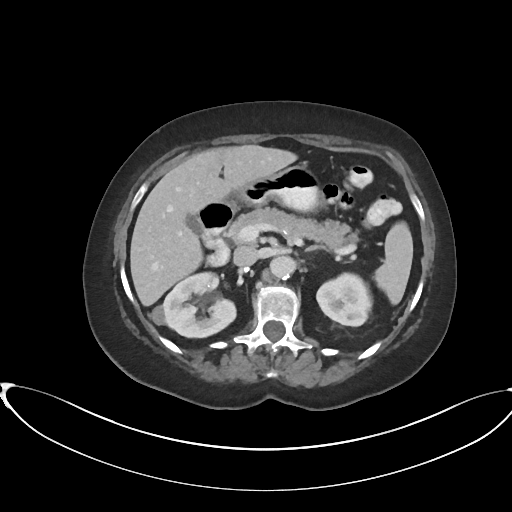Lesion: (148, 300, 170, 330)
